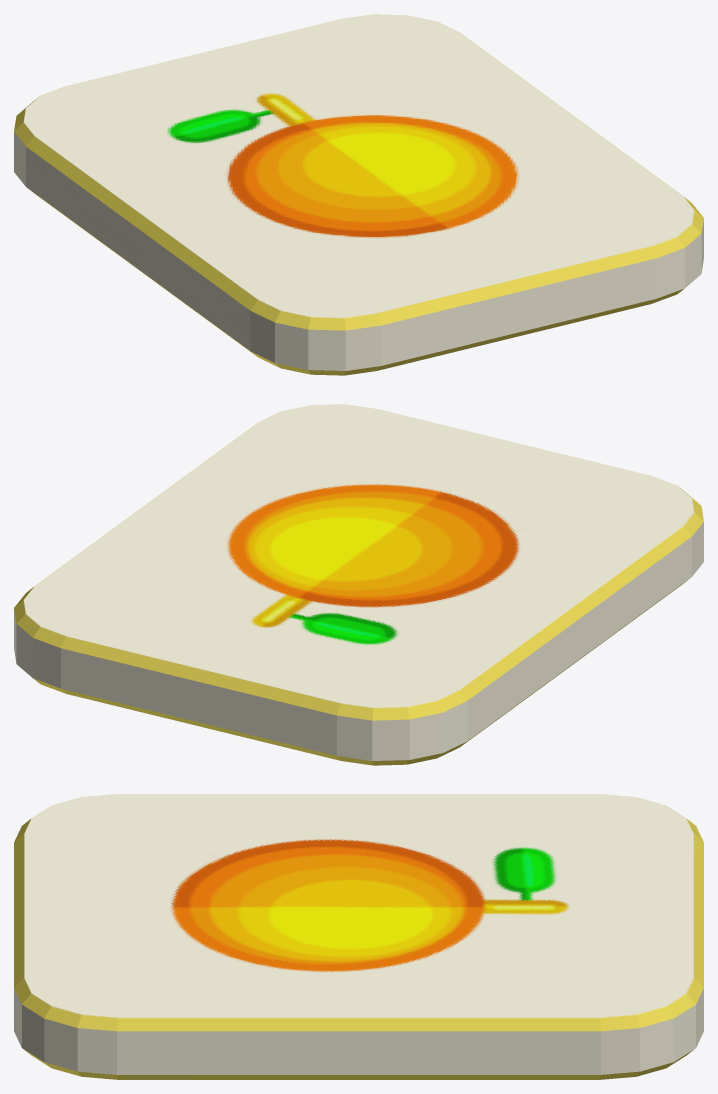
Rendered from memory_card_6.fbx.
3 renders of one model, top to bottom at view 1: azimuth 30°, elevation 25°; view 2: azimuth 150°, elevation 25°; view 3: azimuth 270°, elevation 25°, orthographic. The views are drawn at different scales.
Parts seen in each view (by area): view 1: Card6; view 2: Card6; view 3: Card6.
Part boxes in pixels (box(x1,y1,x2,y2)): Card6: box(14, 14, 703, 375); Card6: box(14, 404, 703, 765); Card6: box(14, 794, 703, 1079).
Size of the model in its own units: 40 by 5 by 50.22.
